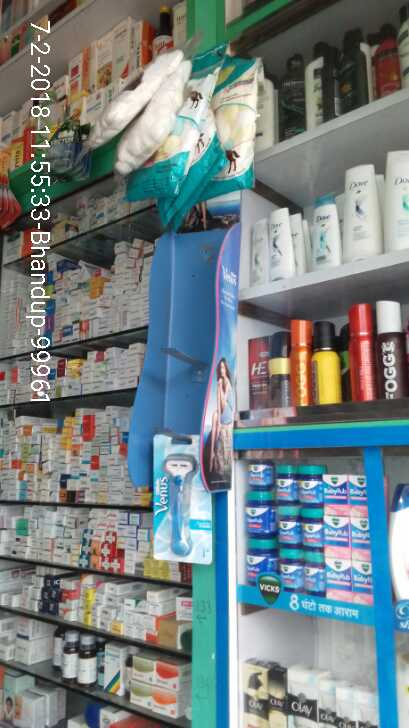beauty: (151, 432, 212, 563)
pharmacy: (244, 490, 275, 538), (276, 545, 305, 588), (245, 539, 275, 580), (322, 473, 349, 516), (324, 516, 350, 559), (327, 559, 352, 602), (299, 464, 325, 505), (277, 504, 302, 545), (303, 551, 325, 596), (274, 461, 297, 502), (301, 504, 322, 546), (353, 560, 372, 604), (247, 456, 272, 488), (351, 518, 369, 562), (351, 473, 368, 515)
